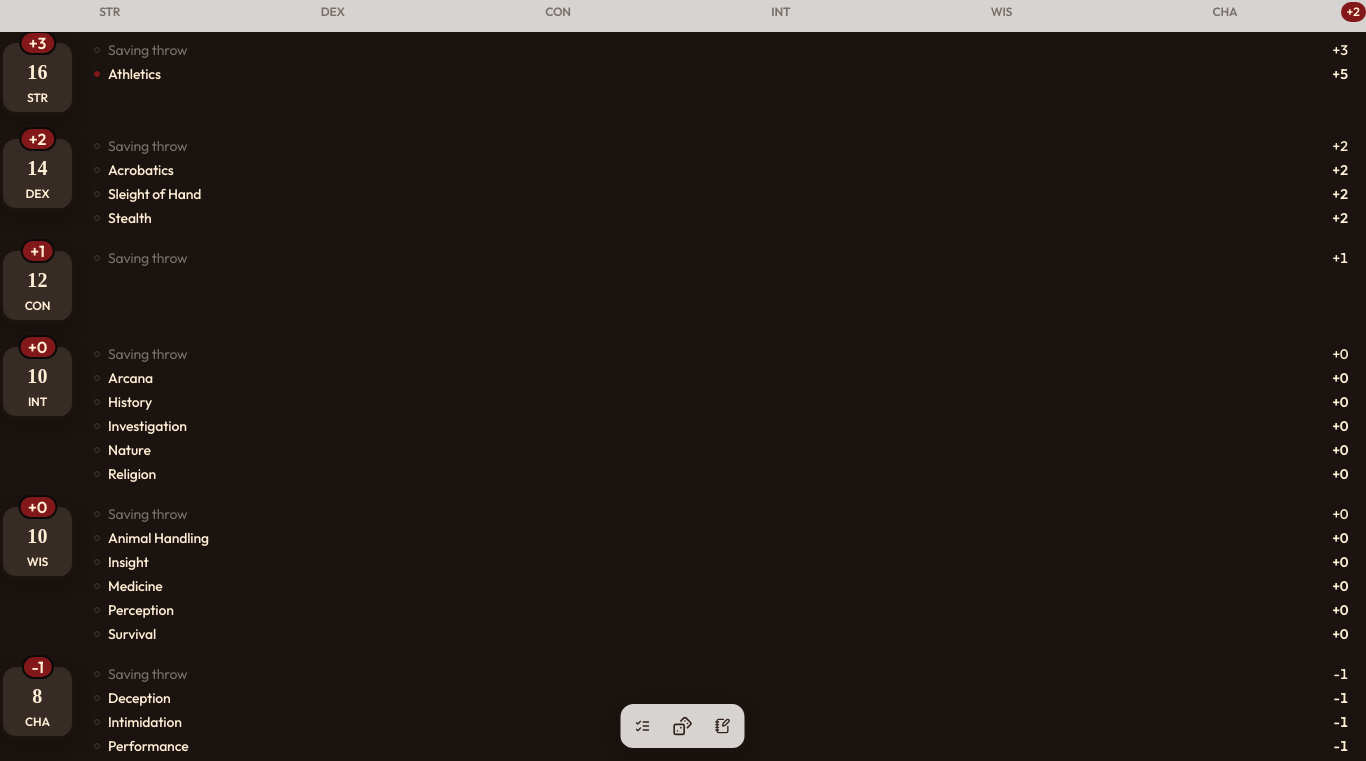
Test: AbilityChecksPanel › opens a skill roll and swaps the action bar to the die picker
Click the button with aria-label "Roll Athletics" at (134, 74), box [84,64,1358,84]
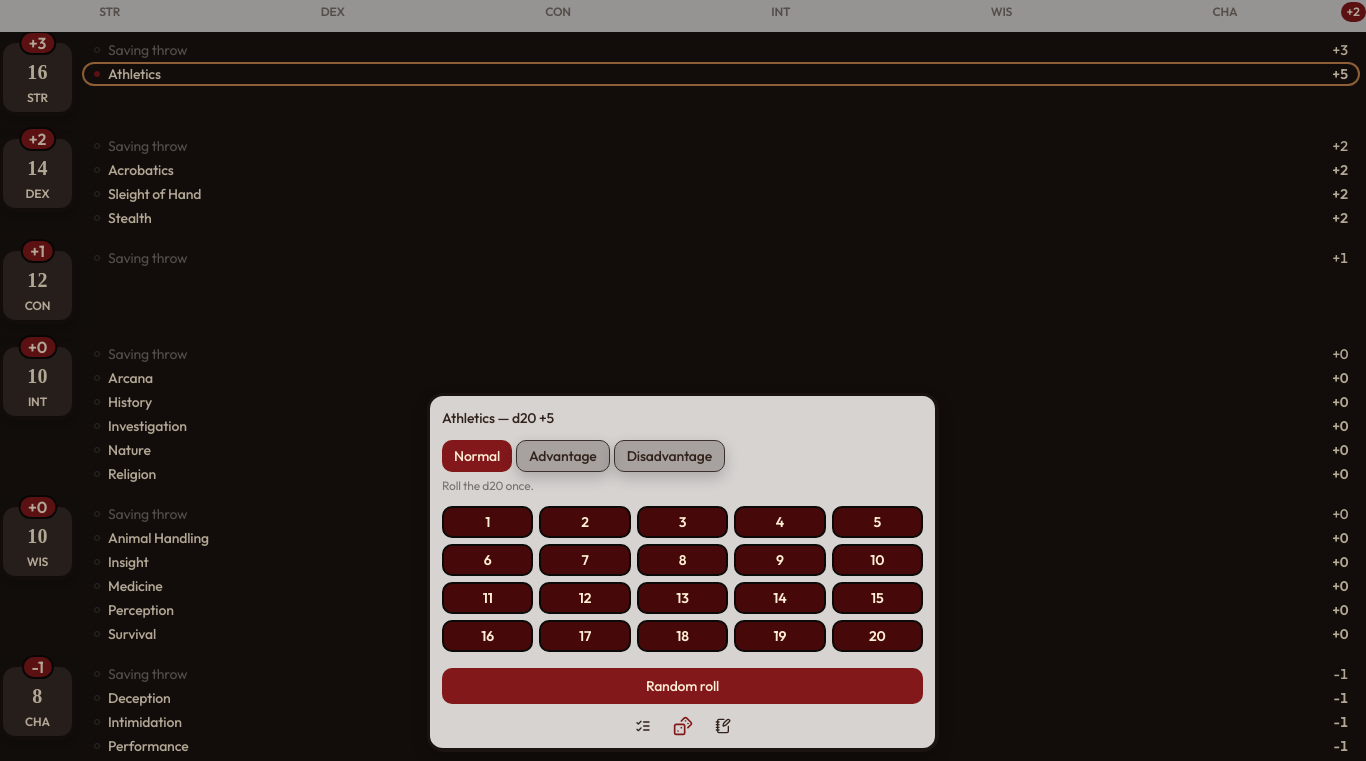
Now the text "Athletics — d20 +5" is shown, box [442,409,554,427]
Now the button "14" is shown, box [734,582,826,614]
